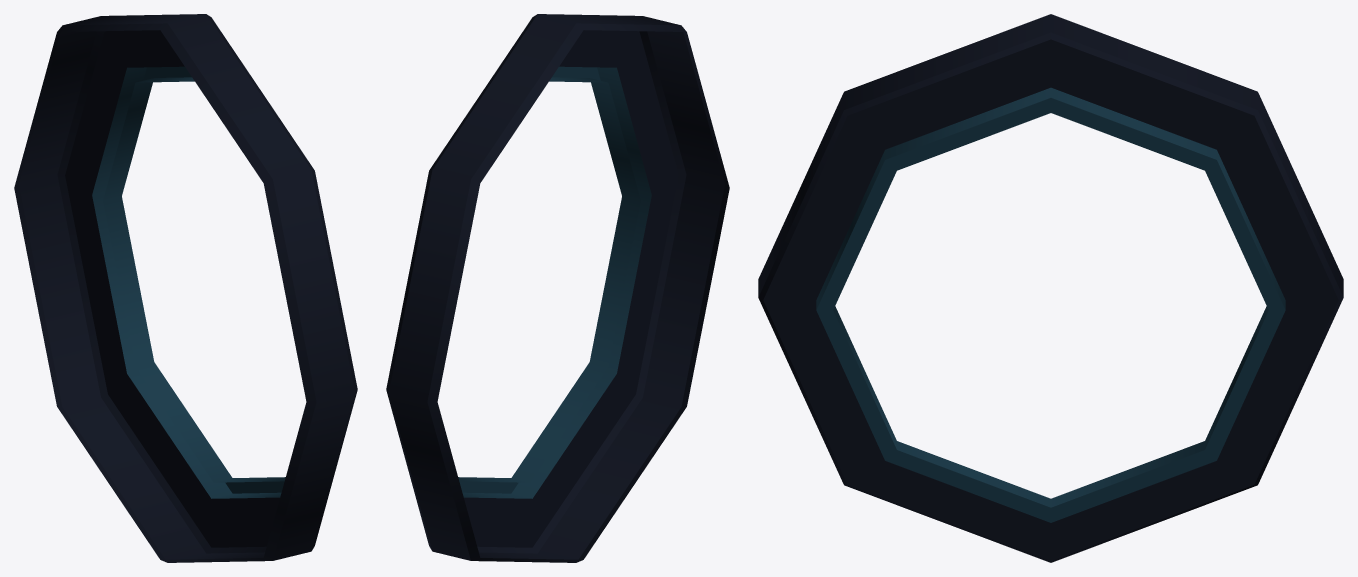
File: PipeSmall_Connector_01_L_Half.fbx
3 views of the same model, side by side, from view 1: azimuth 30°, elevation 25°; view 2: azimuth 150°, elevation 25°; view 3: azimuth 270°, elevation 25° (orthographic).
Parts seen in each view (by area): view 1: PipeSmall_Connector_01_L_Half.001; view 2: PipeSmall_Connector_01_L_Half.001; view 3: PipeSmall_Connector_01_L_Half.001.
Boxes of the visible parts, x1,y1,x2,y2 form: PipeSmall_Connector_01_L_Half.001: (14, 14, 357, 562); PipeSmall_Connector_01_L_Half.001: (386, 14, 729, 562); PipeSmall_Connector_01_L_Half.001: (758, 14, 1343, 562).
Bounding box in the file's own units: 0.019 × 0.1356 × 0.1356.
